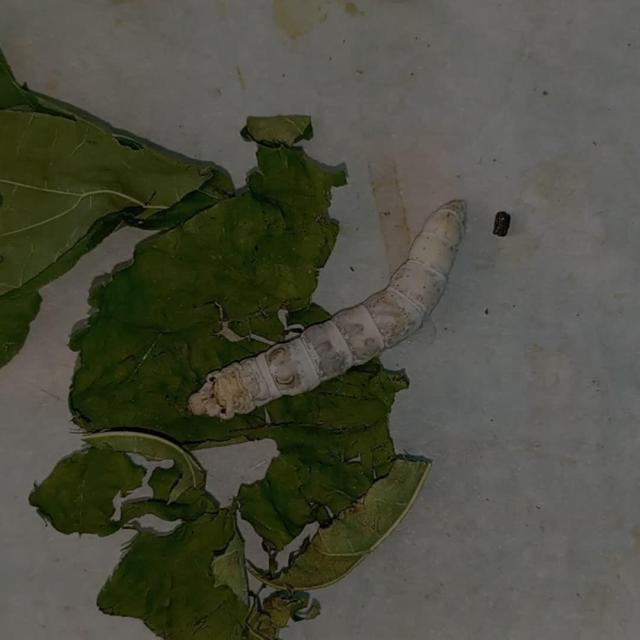Grasserie: (148, 165, 486, 436)
